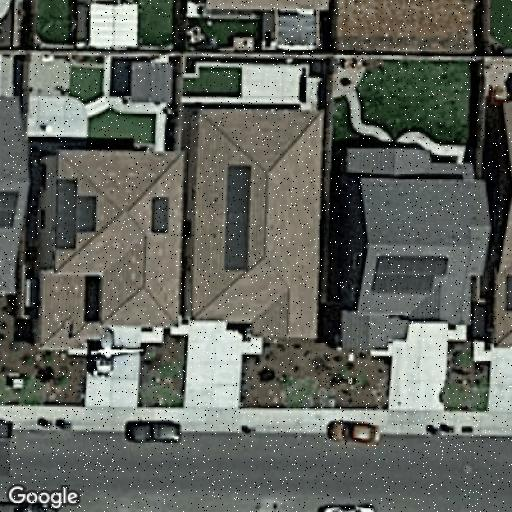solar-panel: (52, 178, 98, 252), (370, 254, 448, 294), (224, 164, 252, 274), (149, 194, 171, 236), (0, 190, 20, 229), (503, 272, 512, 314)
